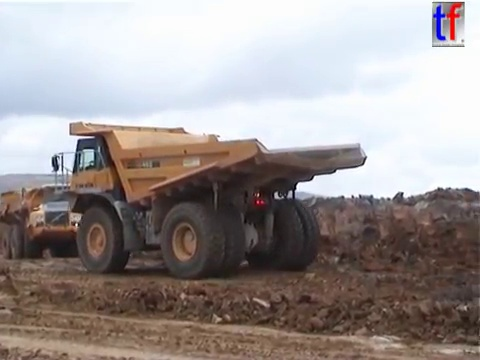truck: (49, 119, 370, 283), (1, 180, 100, 262)
